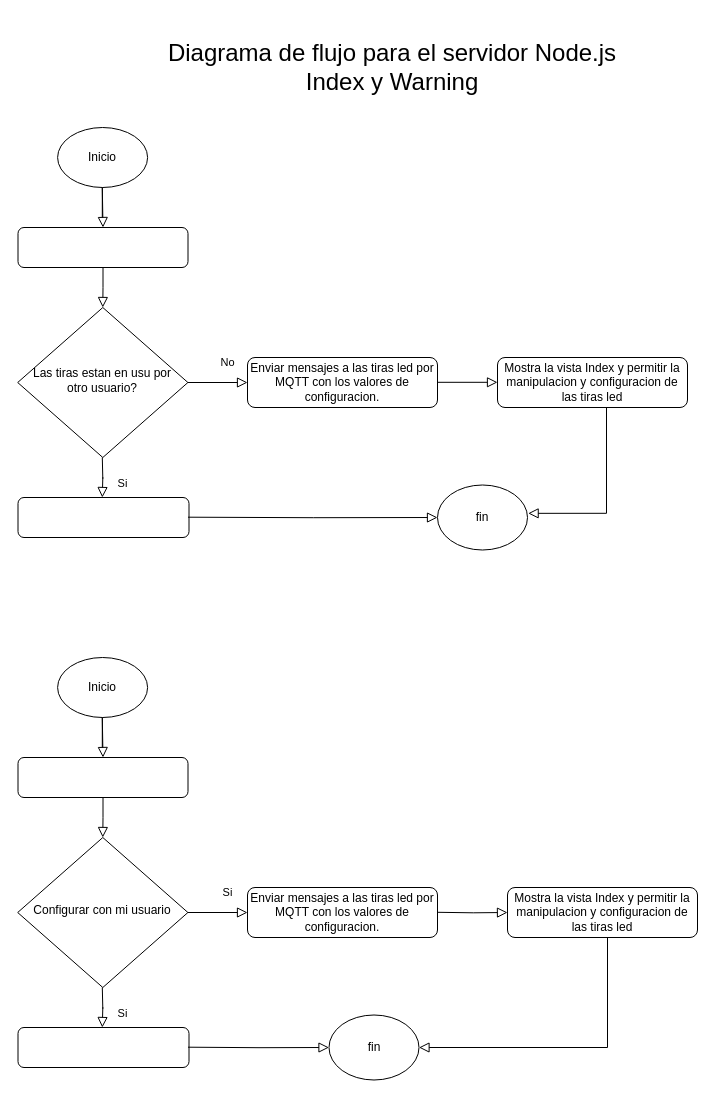
This 715x1097 diagram has some shape labels left out. Here are the shapes that lost their labels. From the top down, the centre of each, then its label:
the point at 102,247: Index
the point at 103,517: Redireccionar a la vista warning
the point at 102,777: Warning
the point at 103,1047: Redireccionar a logout para forzar el cierre de la sesion
